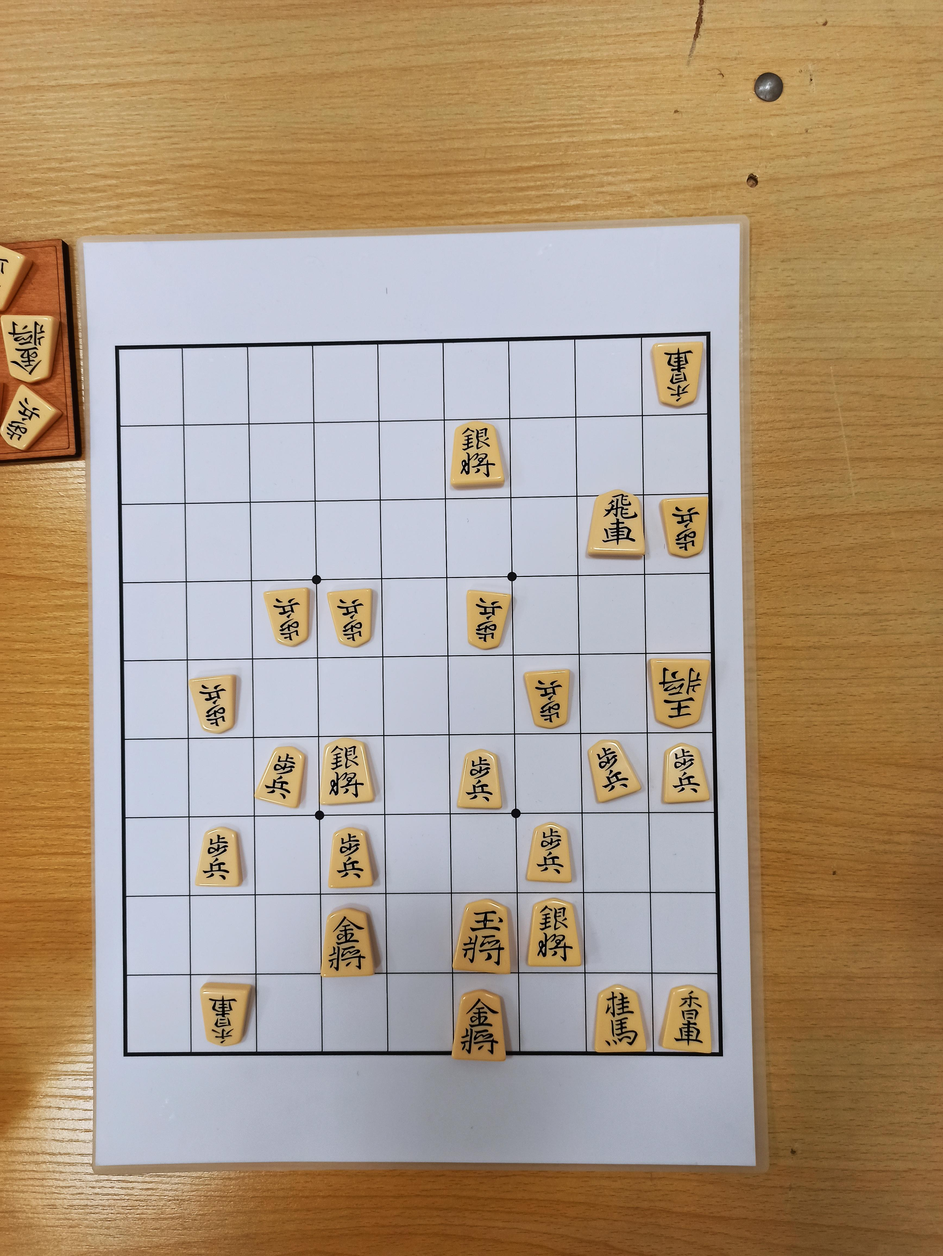board: (117, 333, 720, 1053)
